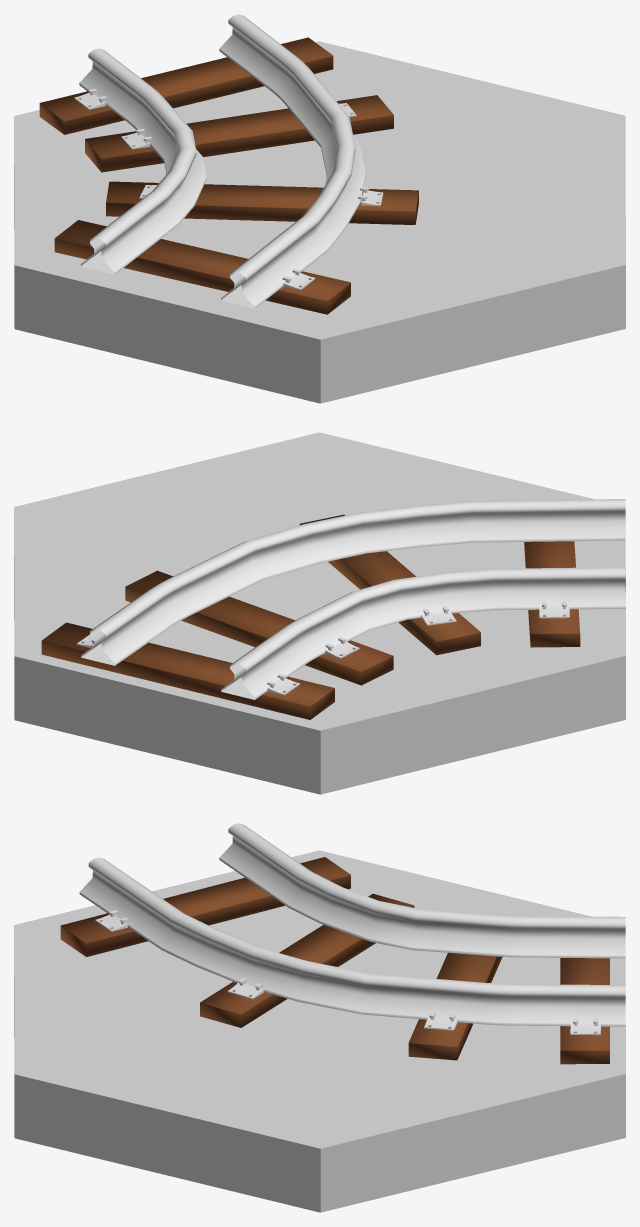
The model's file is trilho_curvo.fbx.
The picture shows the model from 3 angles, top to bottom: view 1: azimuth 30°, elevation 25°; view 2: azimuth 150°, elevation 25°; view 3: azimuth 270°, elevation 25°; orthographic projection.
Visible parts, largest first — view 1: trilho_curvo; view 2: trilho_curvo; view 3: trilho_curvo.
Boxes of the visible parts, bbox=[...] form: trilho_curvo: bbox=[14, 14, 625, 403]; trilho_curvo: bbox=[14, 432, 625, 794]; trilho_curvo: bbox=[14, 823, 625, 1212].
Size of the model in its own units: 200 by 34.61 by 173.
